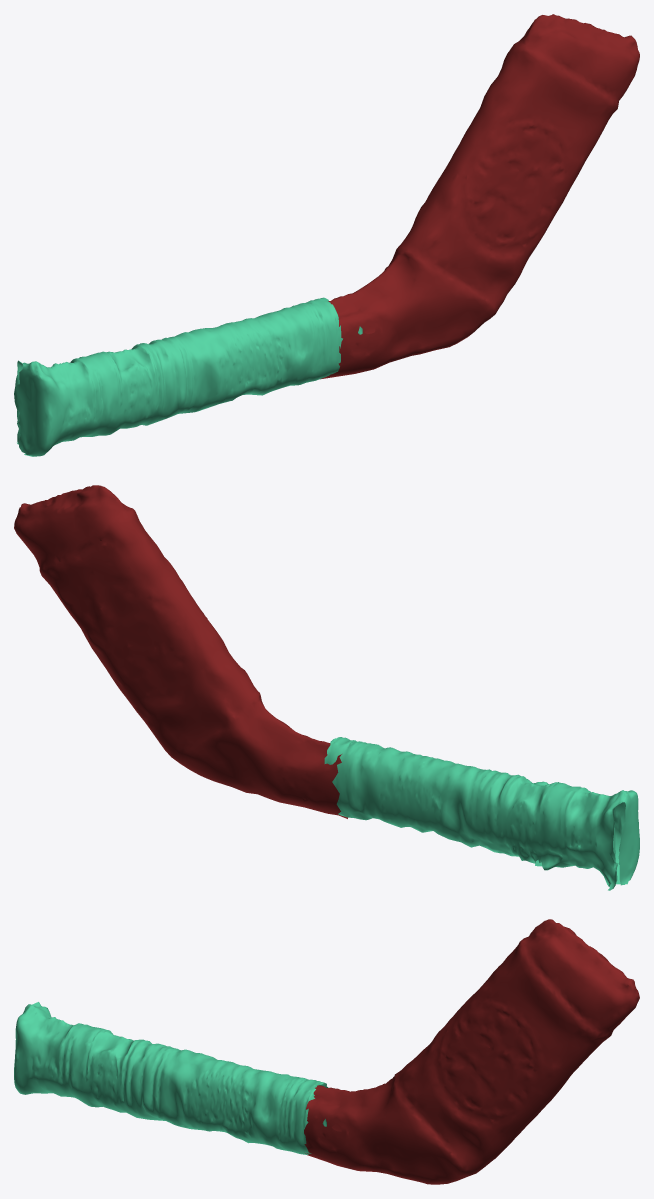
File: object_deformed_3.obj
3 renders of one model, top to bottom at view 1: azimuth 30°, elevation 25°; view 2: azimuth 150°, elevation 25°; view 3: azimuth 330°, elevation 25°, orthographic. The views are drawn at different scales.
Size of the model in its own units: 0.3652 by 0.1653 by 0.0474.
